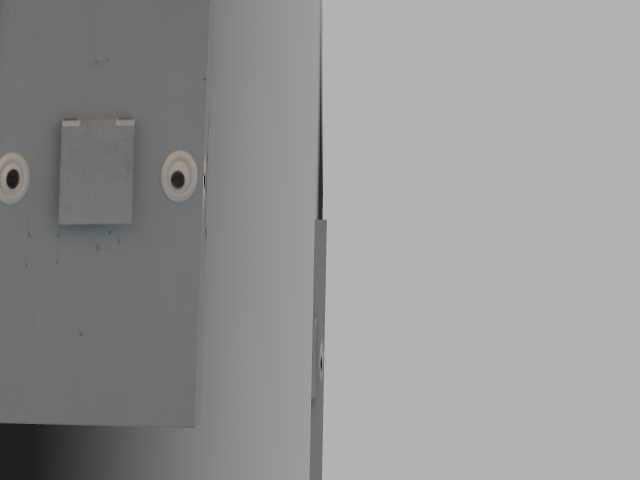facade: (0, 114, 198, 217)
